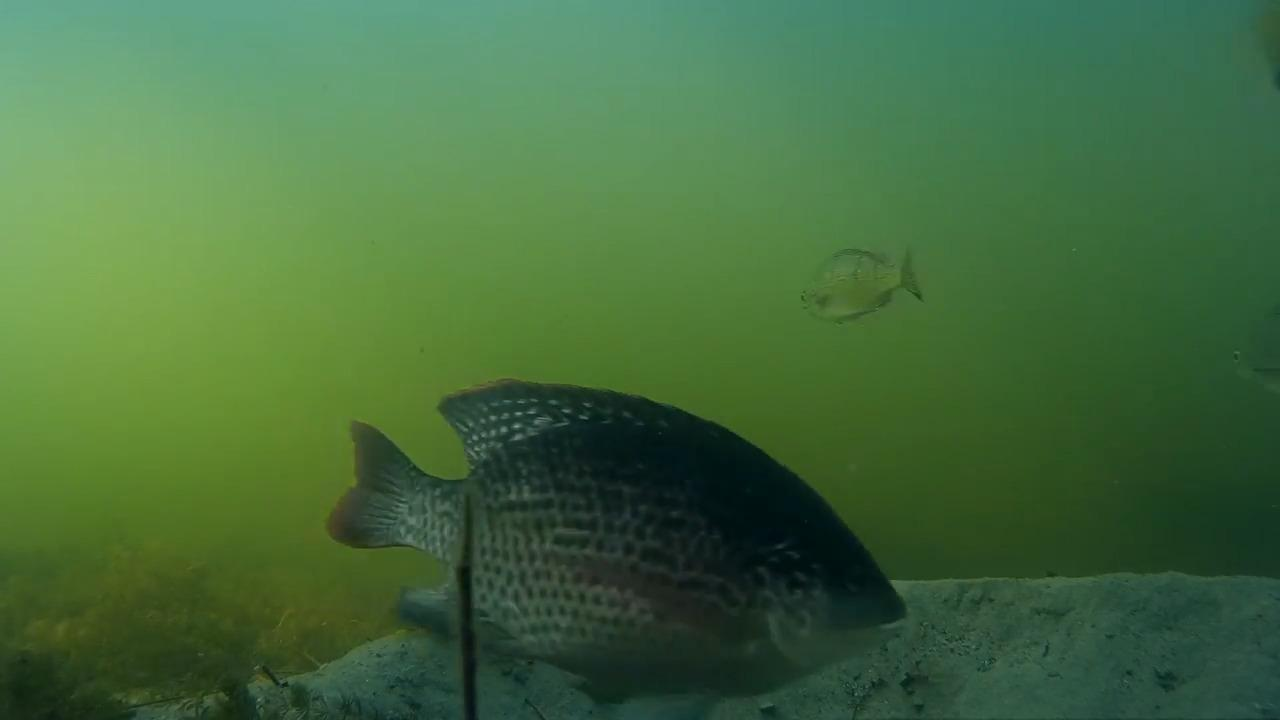Tilapia: (310, 370, 917, 720), (791, 240, 934, 322)
